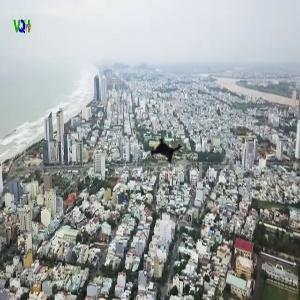drone: (144, 133, 188, 177)
